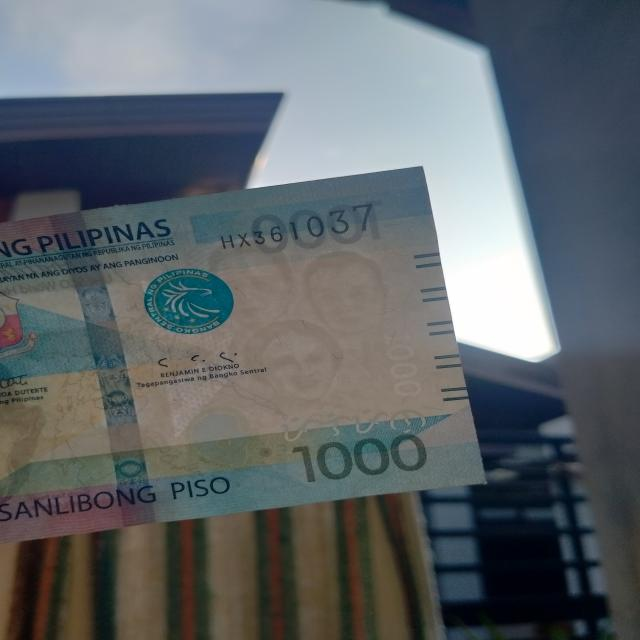security_thread: (45, 209, 156, 529)
see_through_mark: (269, 404, 438, 445)
serial_number: (201, 198, 382, 248)
value_watermark: (376, 325, 432, 400)
watermark: (198, 233, 404, 433)
